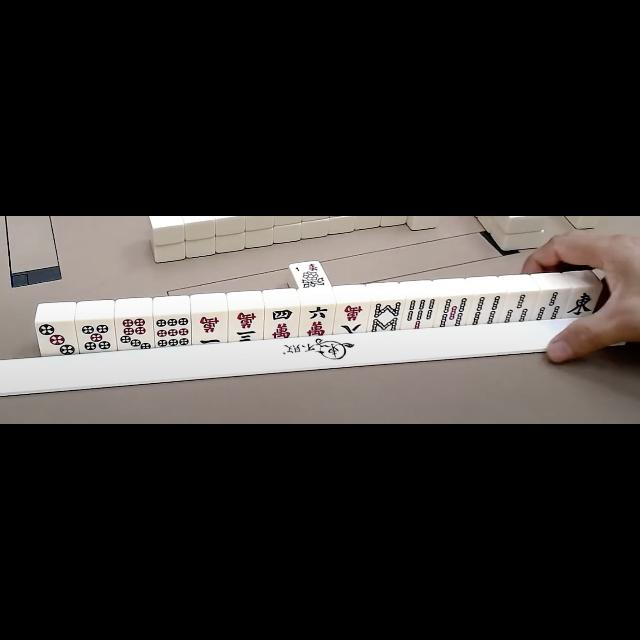b3: (536, 290, 568, 322), (503, 292, 533, 322)
b4: (468, 295, 502, 325)
b5: (438, 296, 468, 328)
b7: (404, 299, 438, 331)
b8: (370, 300, 402, 332)
c1: (191, 312, 227, 346)
c3: (228, 310, 264, 342)
c4: (266, 308, 298, 340)
c6: (300, 304, 334, 338)
c8: (336, 302, 368, 336)
d3: (37, 321, 75, 357)
d5: (78, 320, 114, 352)
d7: (116, 316, 152, 349)
d9: (155, 316, 191, 348)
s1: (292, 262, 324, 274)
we: (567, 287, 597, 319)
